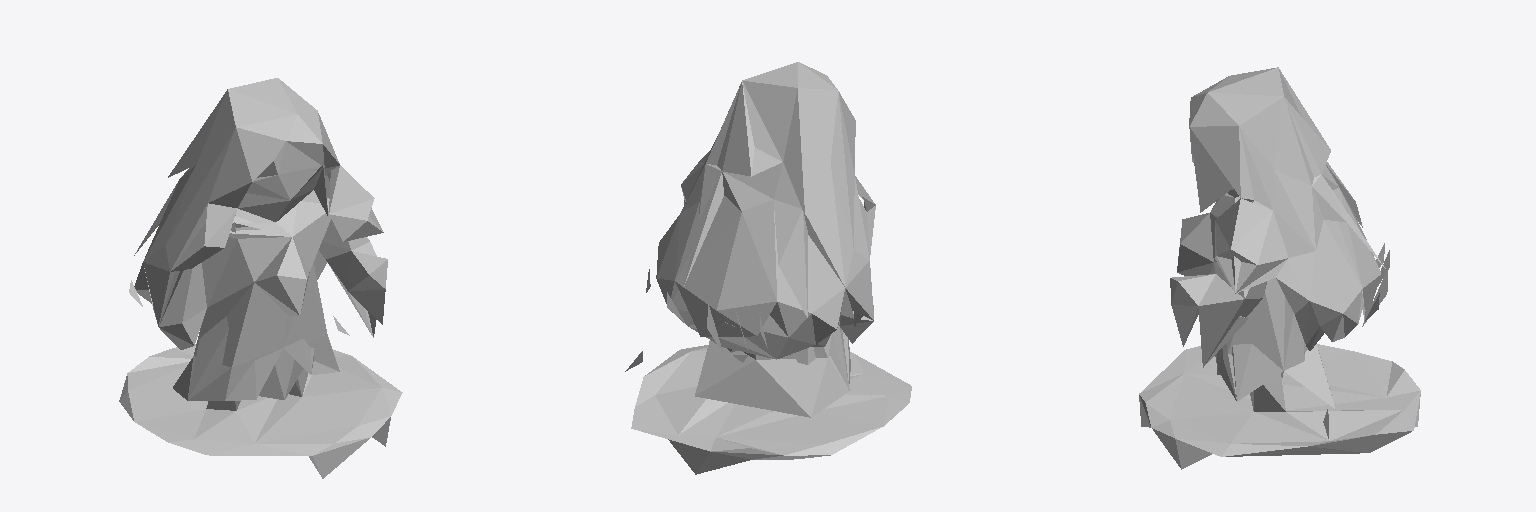
3 renders of one model, left to right at view 1: azimuth 30°, elevation 25°; view 2: azimuth 150°, elevation 25°; view 3: azimuth 270°, elevation 25°, orthographic.
Parts seen in each view (by area): view 1: ai_model; view 2: ai_model; view 3: ai_model.
Boxes of the visible parts, <box> form: ai_model: <box>119,78,402,478</box>; ai_model: <box>625,62,911,474</box>; ai_model: <box>1139,67,1420,469</box>.
Bounding box in the file's own units: 0.7102 × 0.9991 × 0.7317.